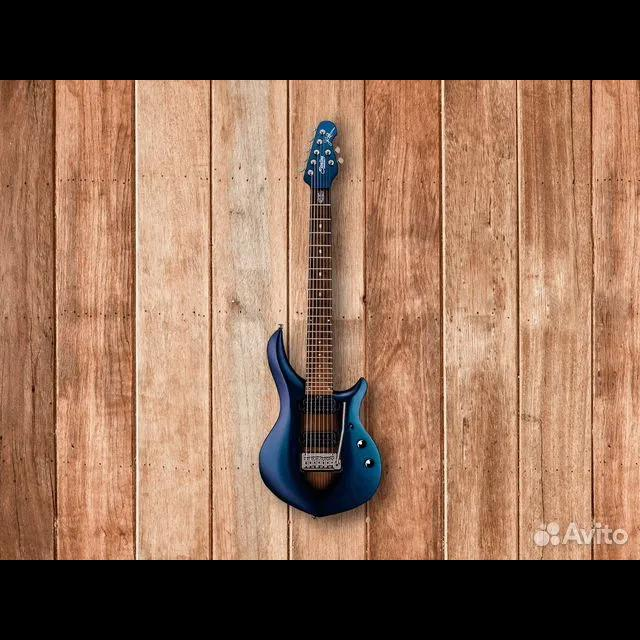Electric-Guitar: (260, 121, 382, 516)
